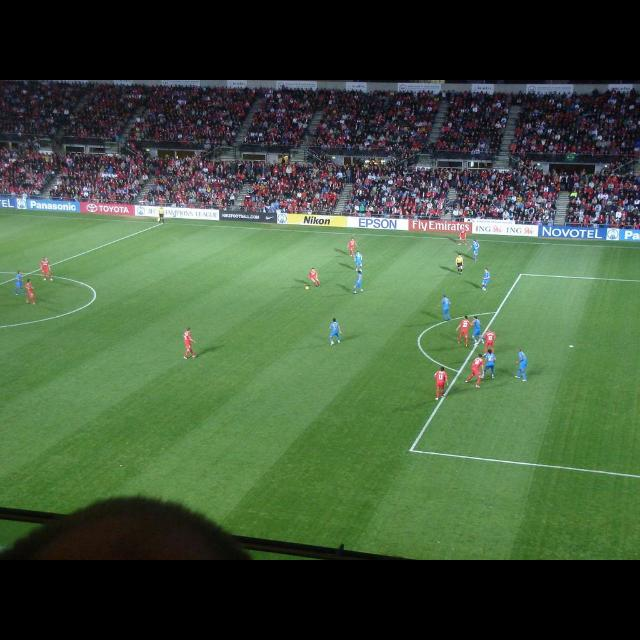Football: (304, 284, 310, 286)
